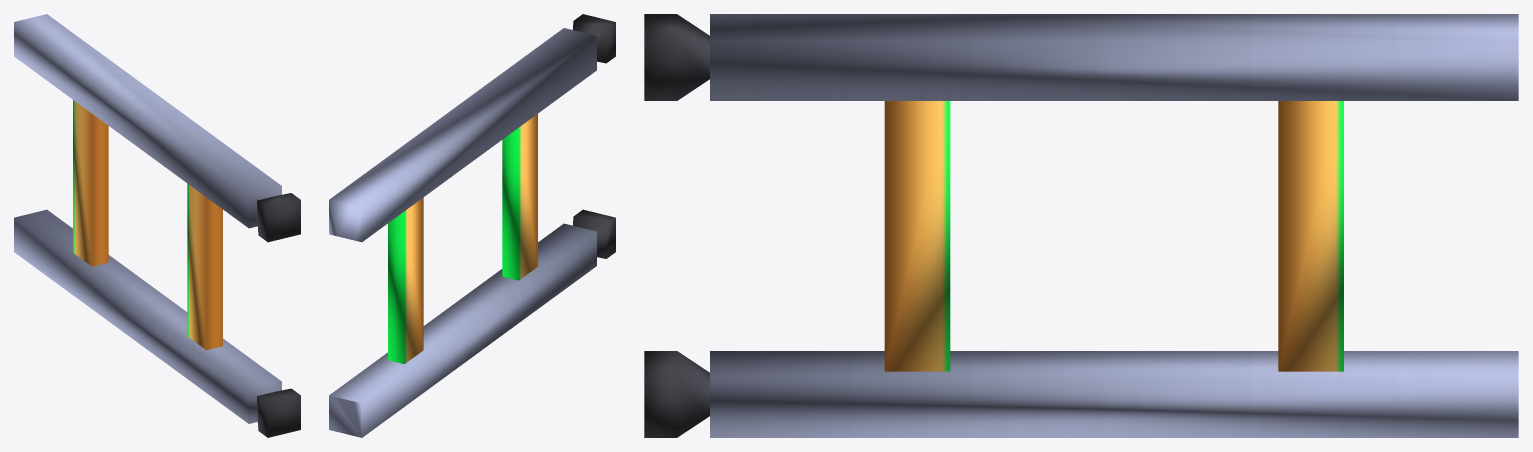
Rendered from structure-yellow-tall.obj.
3 views of the same model, side by side, from view 1: azimuth 30°, elevation 25°; view 2: azimuth 150°, elevation 25°; view 3: azimuth 270°, elevation 25° (orthographic). The views are drawn at different scales.
Parts seen in each view (by area): view 1: structure-yellow-tall.003; view 2: structure-yellow-tall.003; view 3: structure-yellow-tall.003.
Boxes of the visible parts, x1,y1,x2,y2 form: structure-yellow-tall.003: [14, 14, 300, 437]; structure-yellow-tall.003: [329, 14, 615, 437]; structure-yellow-tall.003: [644, 14, 1518, 437].
Size of the model in its own units: 0.15 by 1 by 2.
